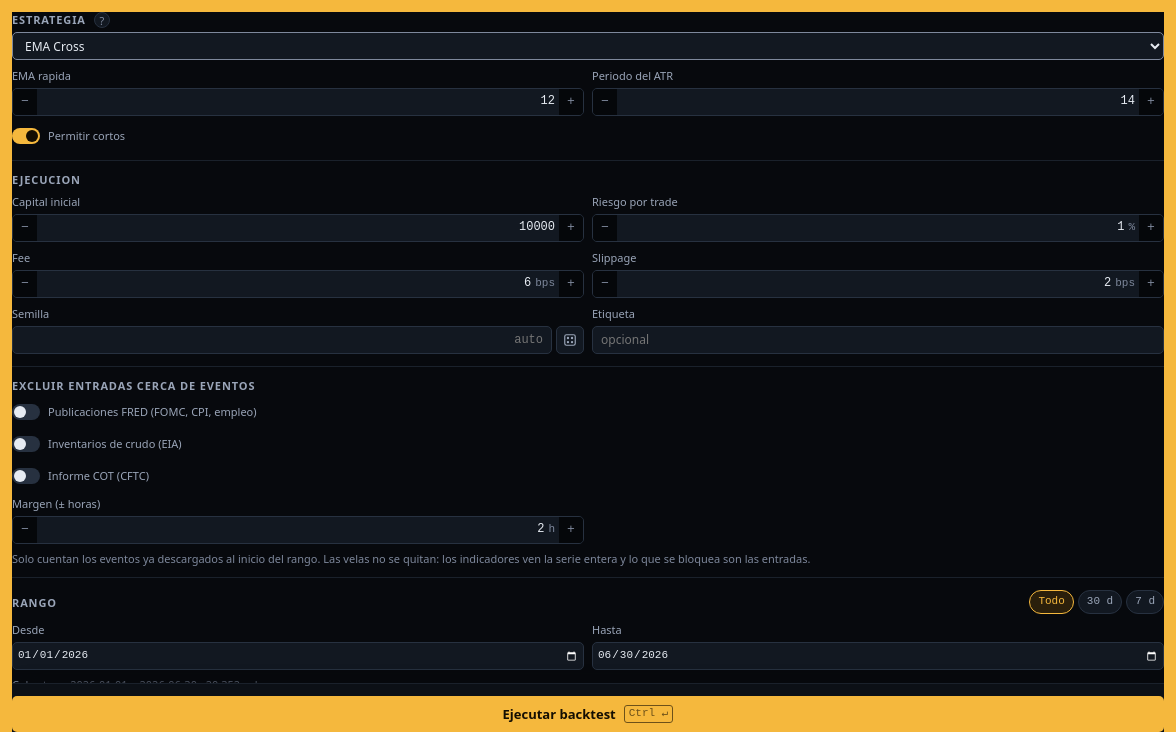
Test case: StrategyPanel › el boton de semilla aleatoria rellena el campo con un entero
Expected: the number field labelled "EMA rapida" is shown, [37,89,559,115]
Click the button named "aleatoria" at (570, 340), box [556,326,584,354]
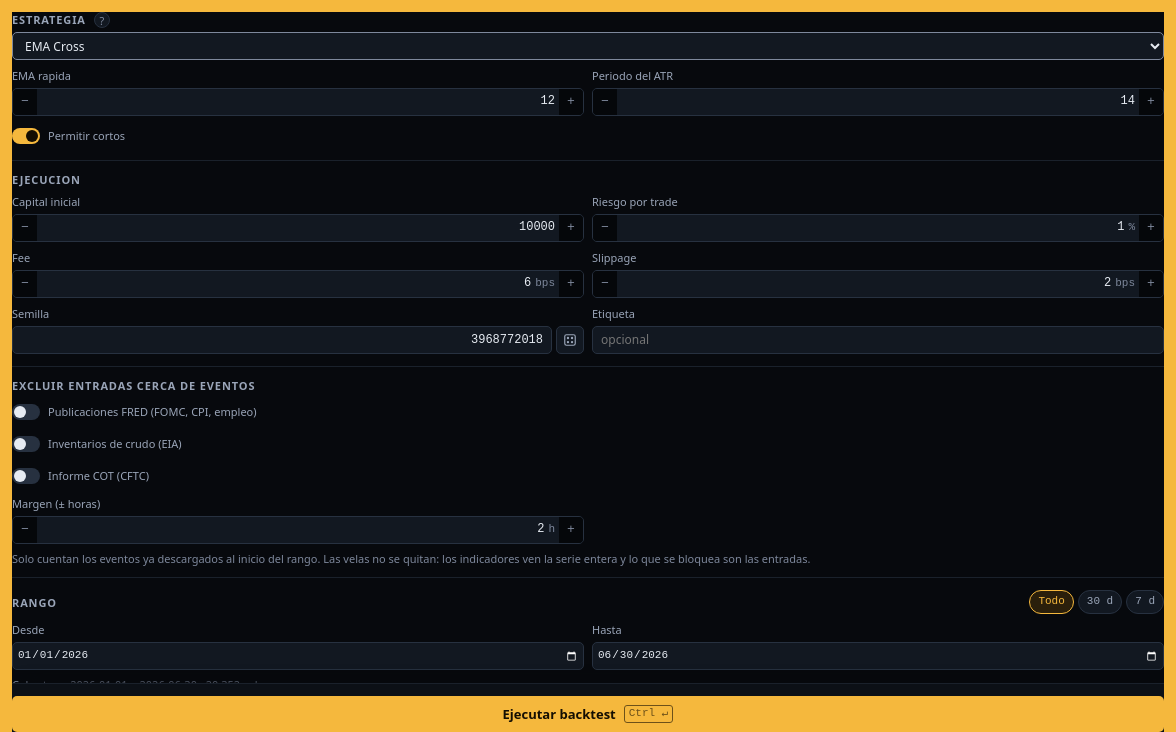
Expected: the field labelled "Semilla" is not empty, [12,326,552,354]
